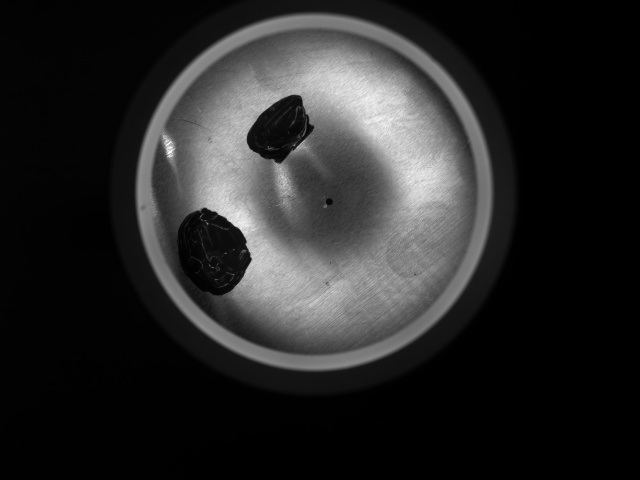zang_wu: (174, 206, 253, 298), (243, 92, 318, 167)
zhen_kong: (320, 196, 339, 211)
